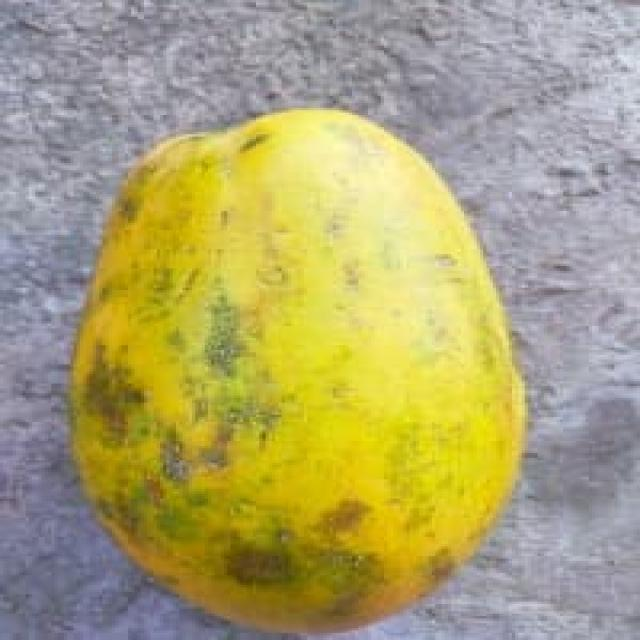Pepaya: (64, 103, 528, 635)
